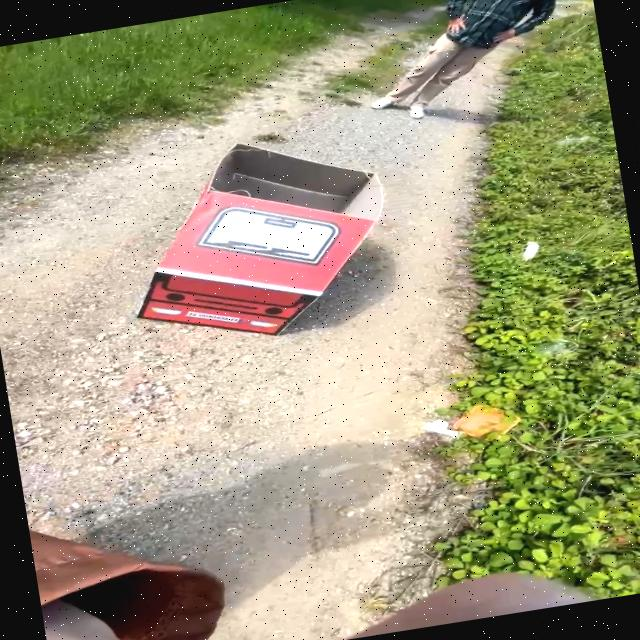red_car: (108, 102, 503, 363)
